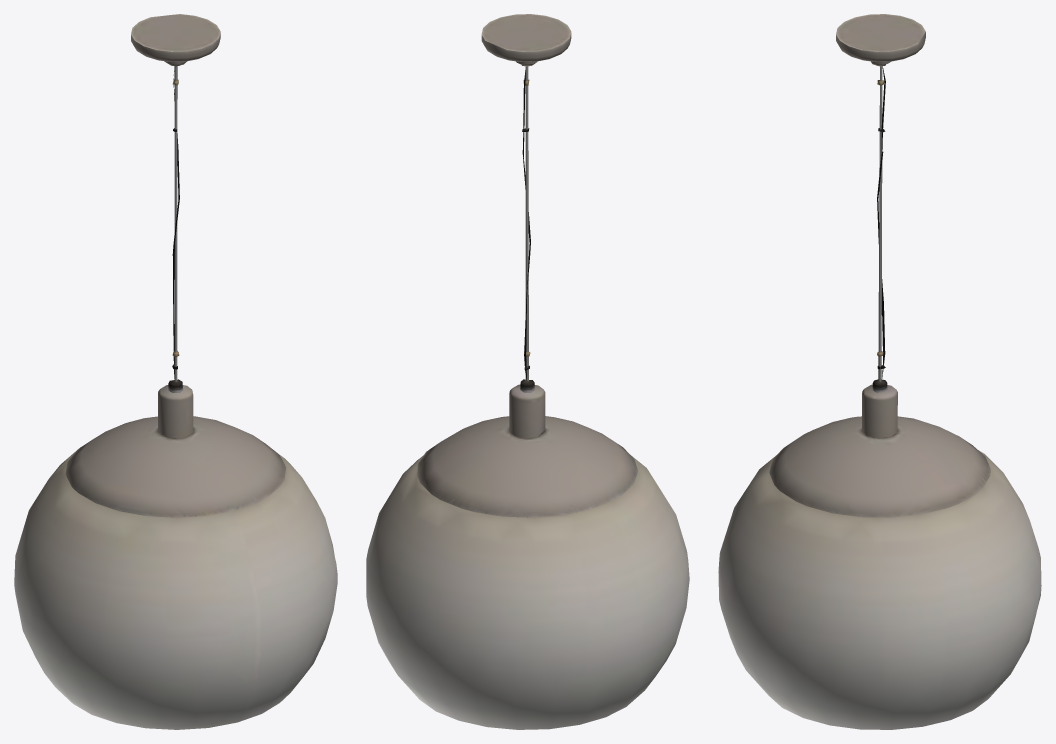
File: pend_dome.glb
The picture shows the model from 3 angles, left to right: view 1: azimuth 30°, elevation 25°; view 2: azimuth 150°, elevation 25°; view 3: azimuth 270°, elevation 25°; orthographic projection.
Visible parts, largest first — view 1: modern_ceiling_lamp_01; view 2: modern_ceiling_lamp_01; view 3: modern_ceiling_lamp_01.
Boxes of the visible parts, x1=… form: modern_ceiling_lamp_01: x1=14, y1=14, x2=337, y2=729; modern_ceiling_lamp_01: x1=366, y1=14, x2=689, y2=729; modern_ceiling_lamp_01: x1=718, y1=14, x2=1041, y2=729.
Bounding box in the file's own units: 0.4316 × 0.9512 × 0.4297.
Materials: 2 (2 with a texture image).
